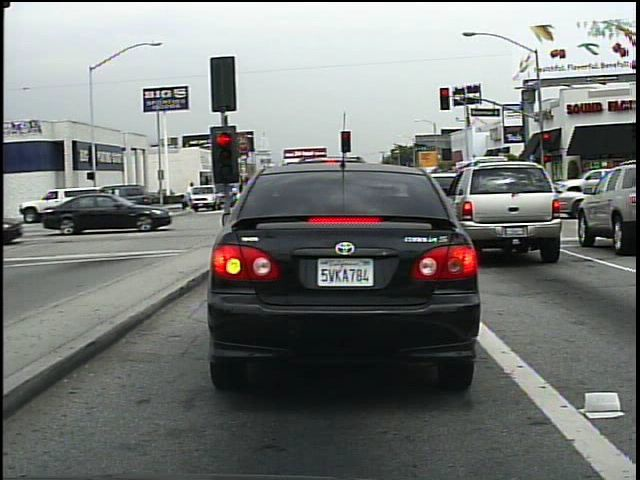person: (180, 179, 197, 214)
